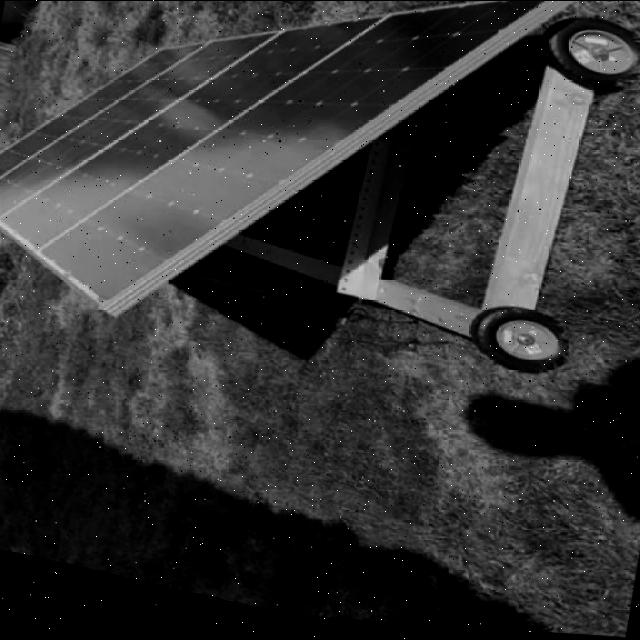Normal Solar Panel: (0, 0, 564, 402)
